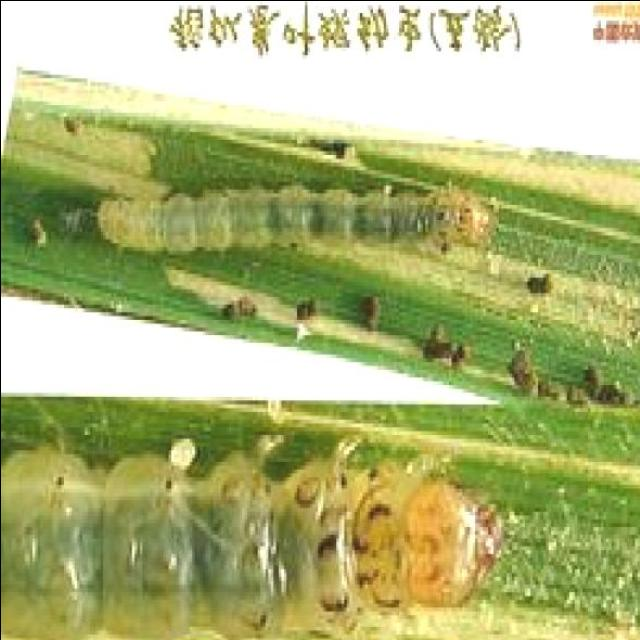leaf folder: (0, 437, 502, 640), (95, 188, 495, 251)
